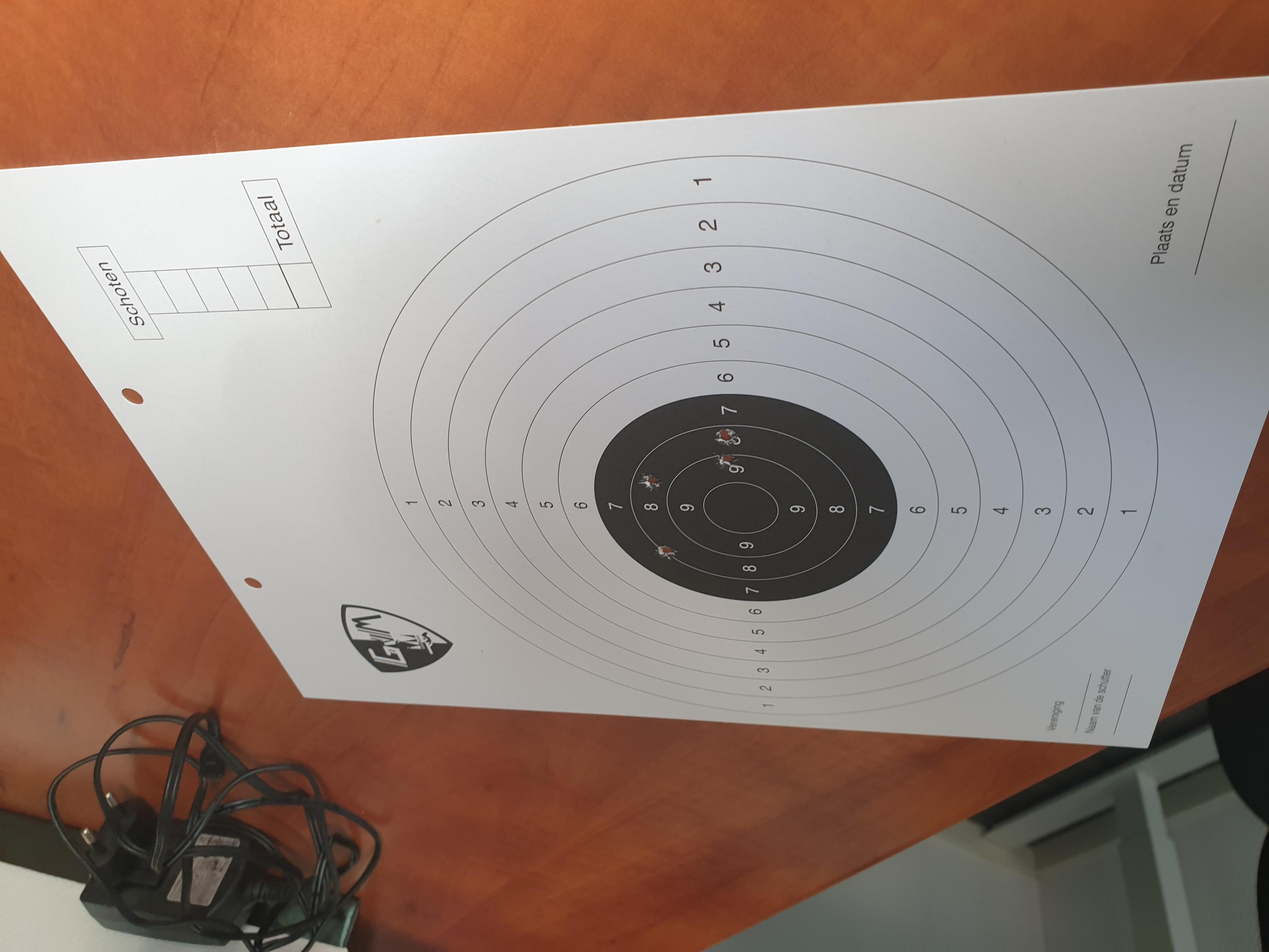hole: (530, 482, 558, 503), (530, 505, 554, 525), (591, 389, 616, 408), (606, 460, 629, 480)
